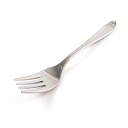Fork: (14, 13, 125, 102)
